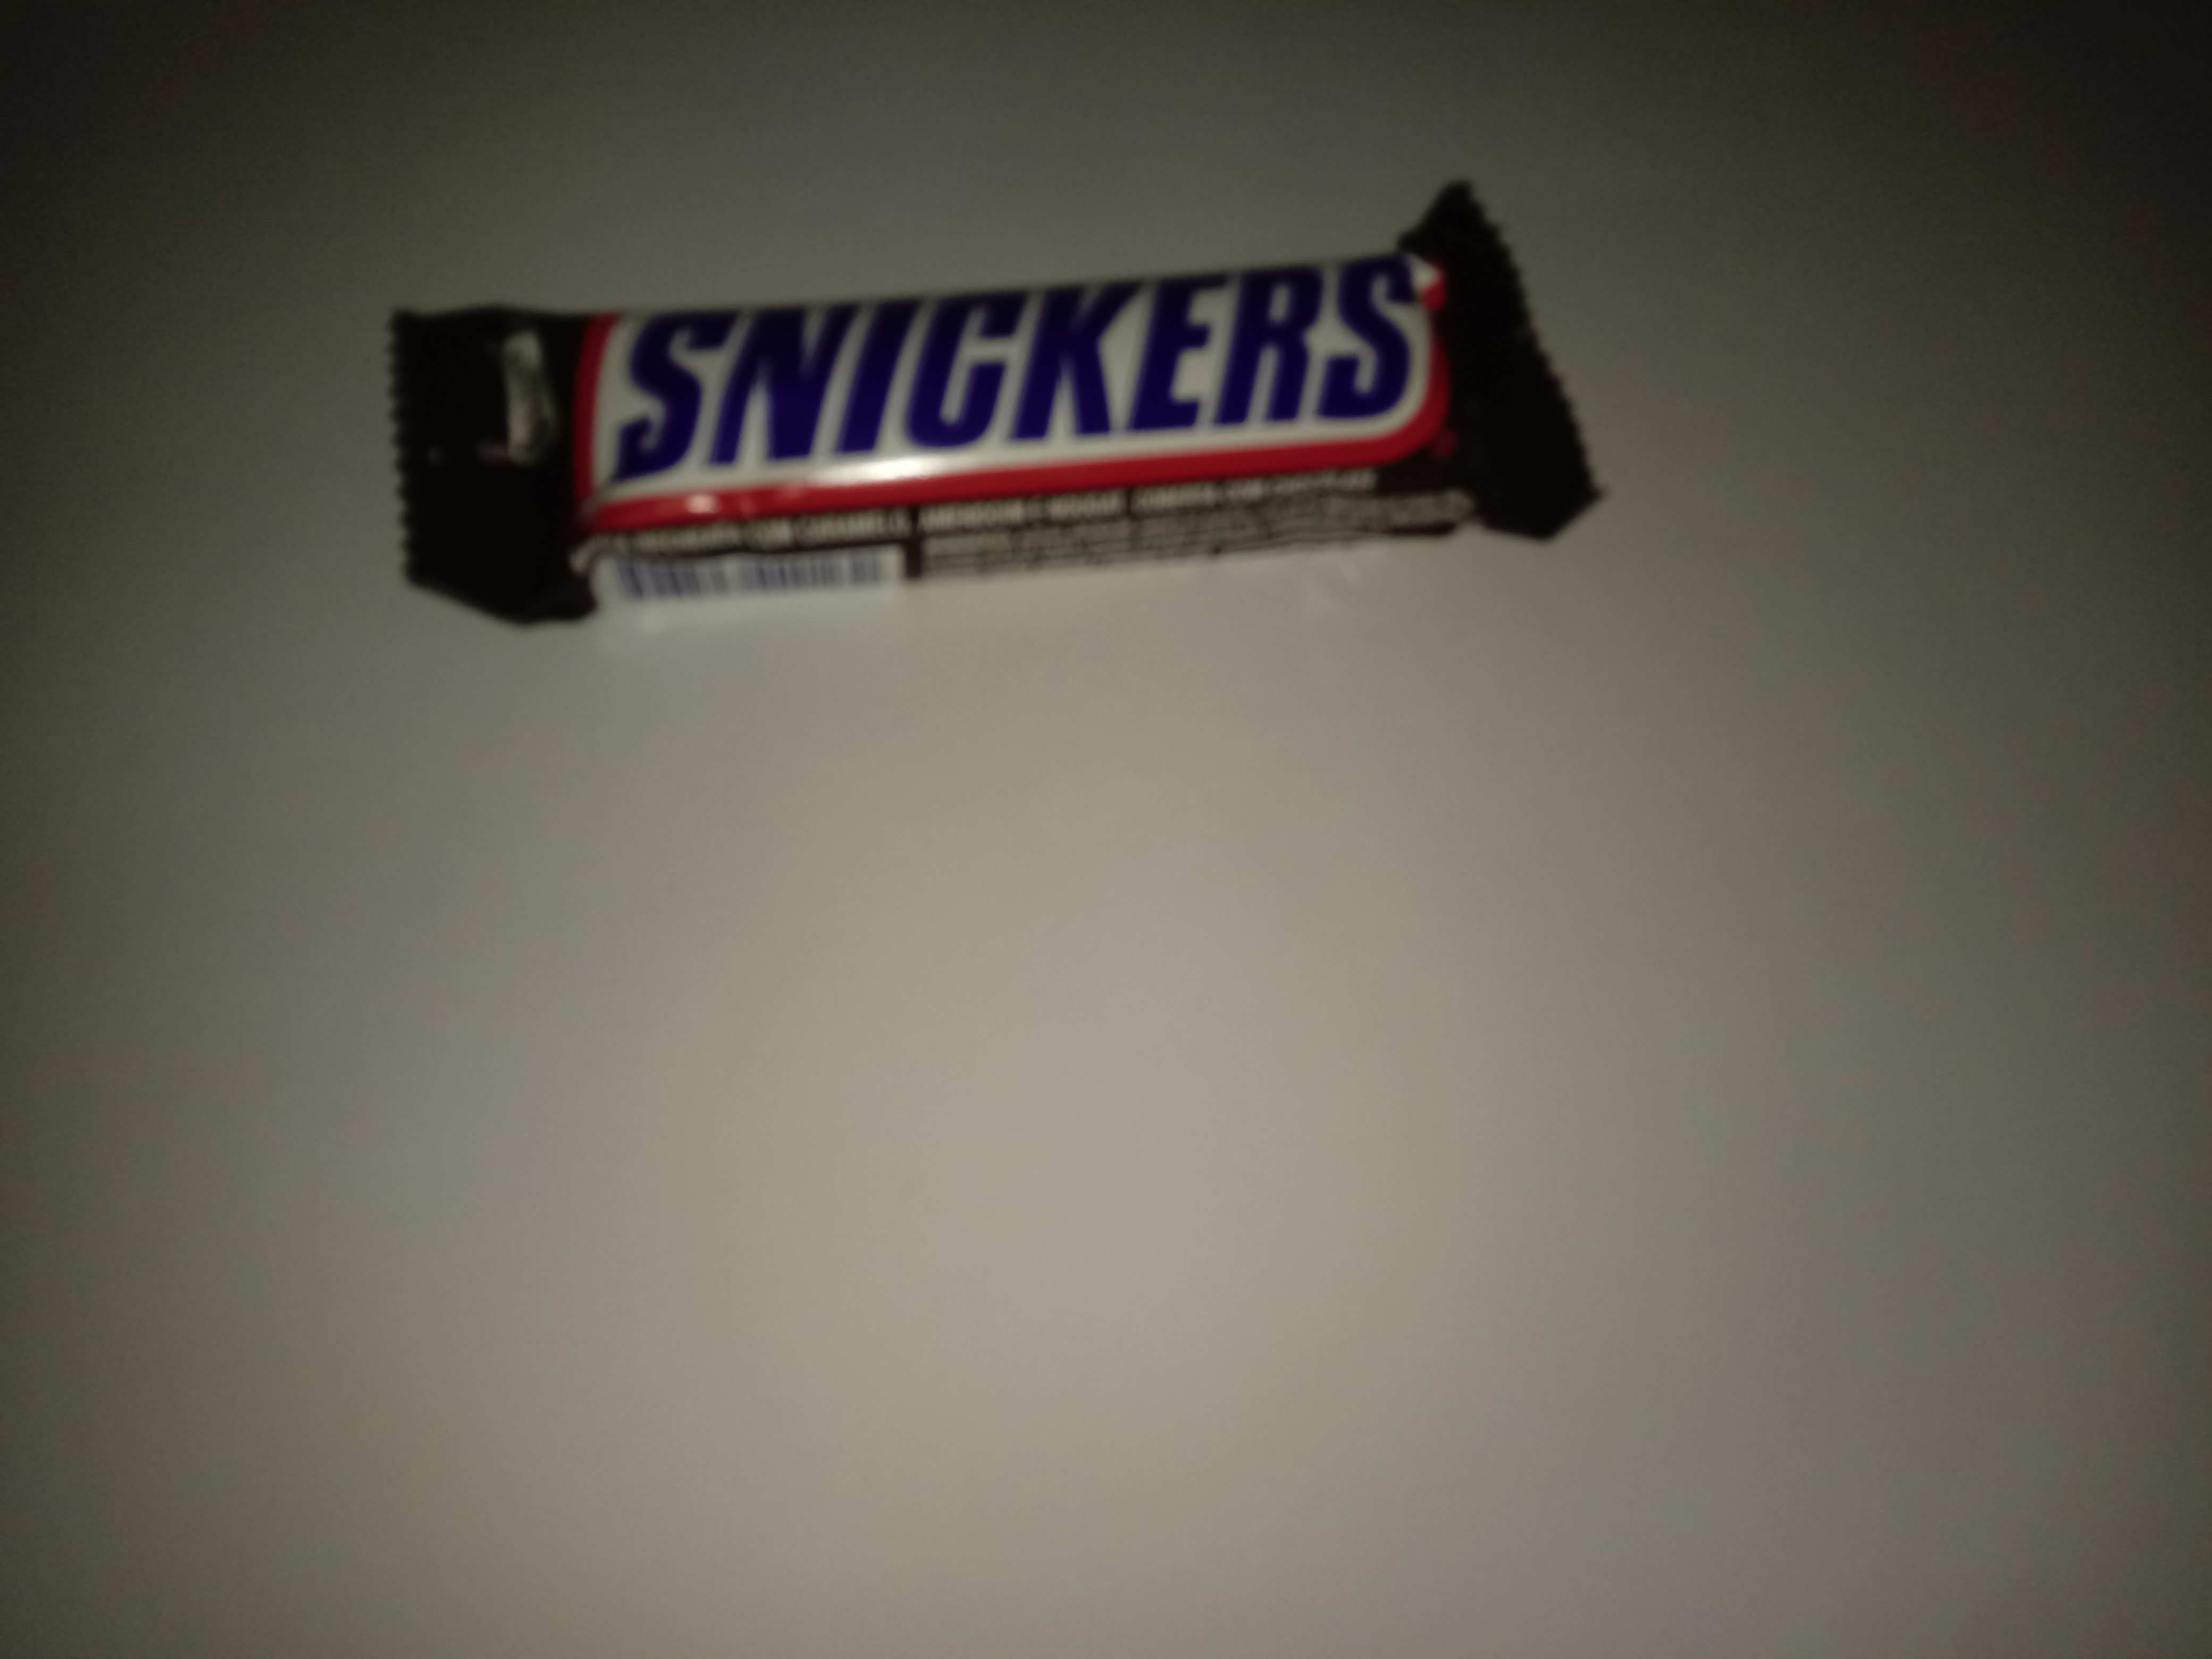snickers: (352, 174, 1646, 647)
